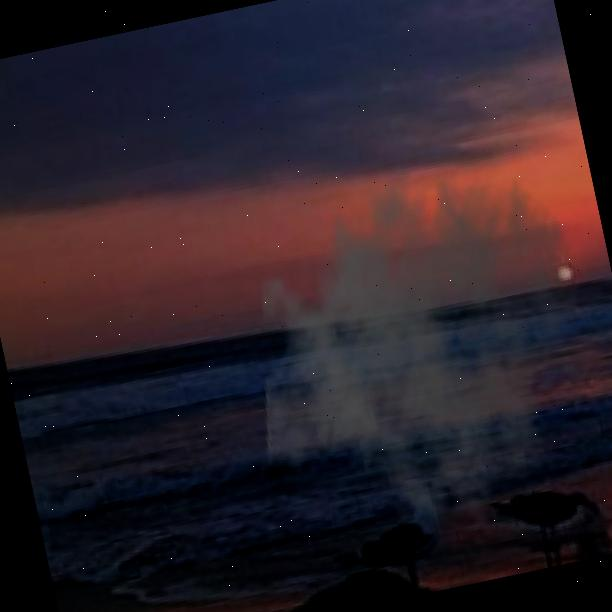smoke: (205, 106, 612, 574)
